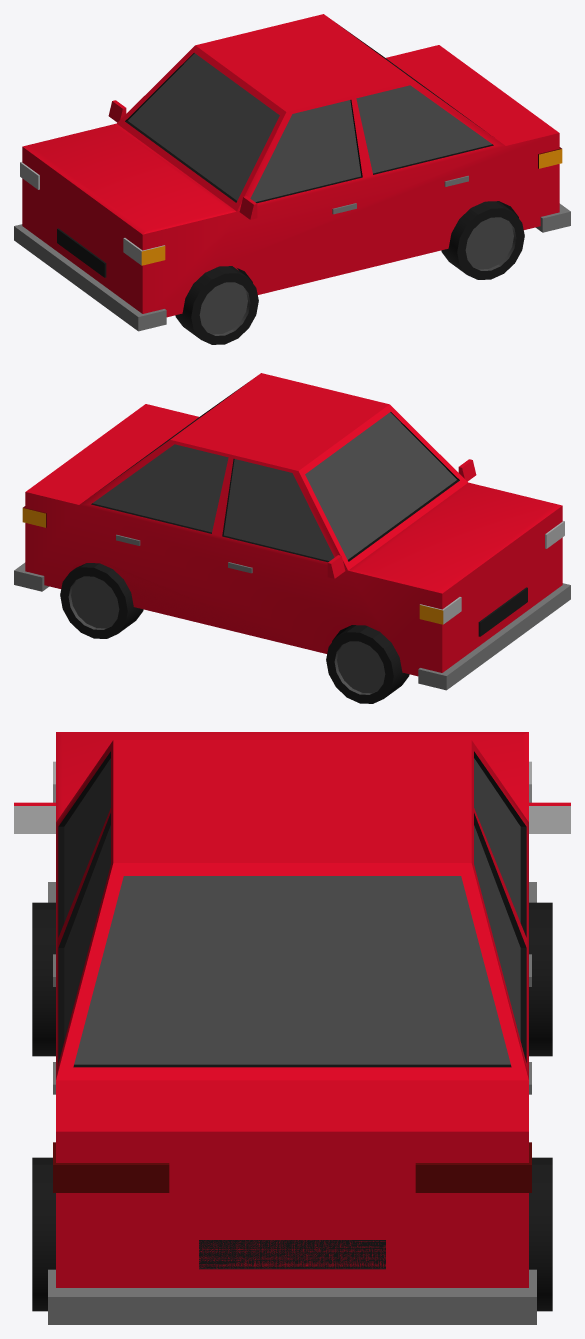
The model's file is SM_Car.fbx.
3 views of the same model, one above another, from view 1: azimuth 30°, elevation 25°; view 2: azimuth 150°, elevation 25°; view 3: azimuth 270°, elevation 25° (orthographic). The views are drawn at different scales.
Parts seen in each view (by area): view 1: SM_Car; view 2: SM_Car; view 3: SM_Car.
Boxes of the visible parts, x1=… form: SM_Car: x1=14, y1=14, x2=570, y2=344; SM_Car: x1=14, y1=373, x2=570, y2=703; SM_Car: x1=14, y1=732, x2=570, y2=1324.
Size of the model in its own units: 415 by 181 by 236.
